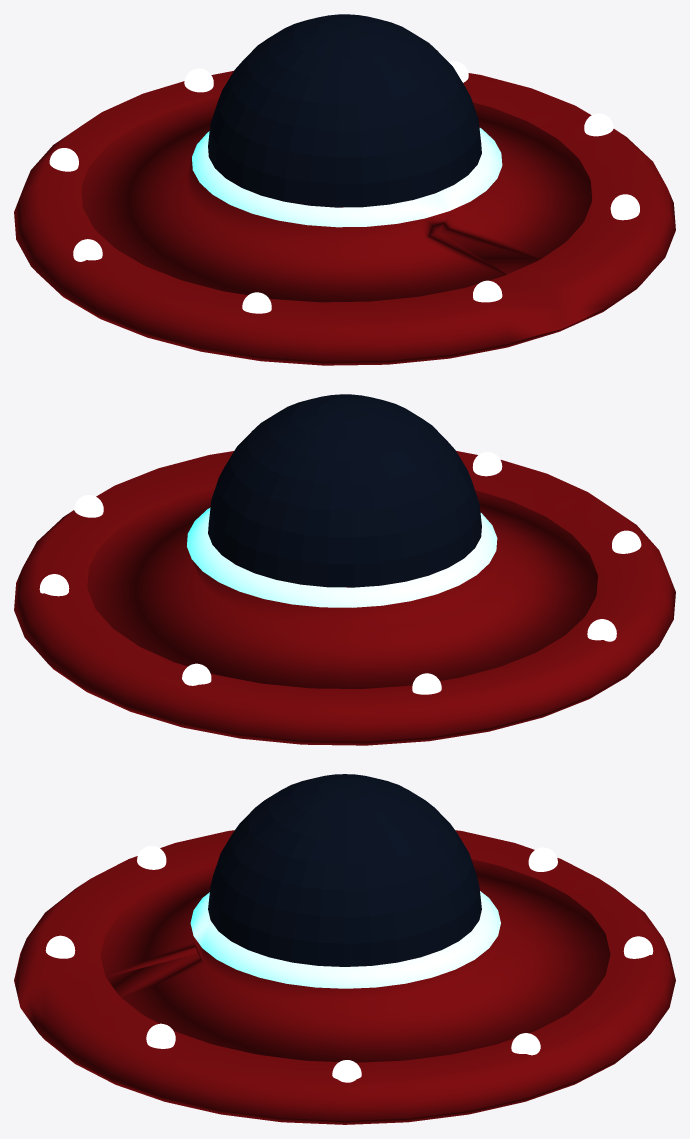
File: ufo1.gltf
The picture shows the model from 3 angles, top to bottom: view 1: azimuth 30°, elevation 25°; view 2: azimuth 150°, elevation 25°; view 3: azimuth 270°, elevation 25°; orthographic projection.
Visible parts, largest first — view 1: body, glass, Sphere.002, Sphere.005, Sphere.006, Sphere.007, Sphere.009, Sphere, Sphere.008; view 2: body, glass, Sphere, Sphere.008, Sphere.007, Sphere.009, Sphere.004, Sphere.005, Sphere.006; view 3: body, glass, Sphere.002, Sphere.006, Sphere.008, Sphere, Sphere.005, Sphere.004, Sphere.009.
Part boxes in pixels (x1,y1,x2,y2): body: (14, 71, 675, 365); glass: (208, 14, 481, 207); Sphere.002: (610, 194, 639, 220); Sphere.005: (184, 68, 213, 92); Sphere.006: (49, 148, 78, 171); Sphere.007: (73, 239, 102, 261); Sphere.009: (584, 113, 613, 136); Sphere: (473, 280, 502, 302); Sphere.008: (242, 292, 271, 313); body: (14, 451, 675, 745); glass: (208, 394, 481, 587); Sphere: (472, 452, 502, 476); Sphere.008: (612, 530, 641, 553); Sphere.007: (587, 619, 616, 641); Sphere.009: (74, 495, 103, 517); Sphere.004: (39, 574, 69, 596); Sphere.005: (182, 663, 211, 685); Sphere.006: (412, 673, 441, 694); body: (14, 830, 675, 1124); glass: (208, 774, 481, 966); Sphere.002: (146, 1023, 175, 1048); Sphere.006: (528, 847, 557, 871); Sphere.008: (137, 845, 166, 869); Sphere: (45, 935, 75, 958); Sphere.005: (623, 936, 653, 958); Sphere.004: (511, 1033, 540, 1055); Sphere.009: (332, 1060, 361, 1082).
Bounding box in the file's own units: 41.44 × 13.88 × 41.44.
